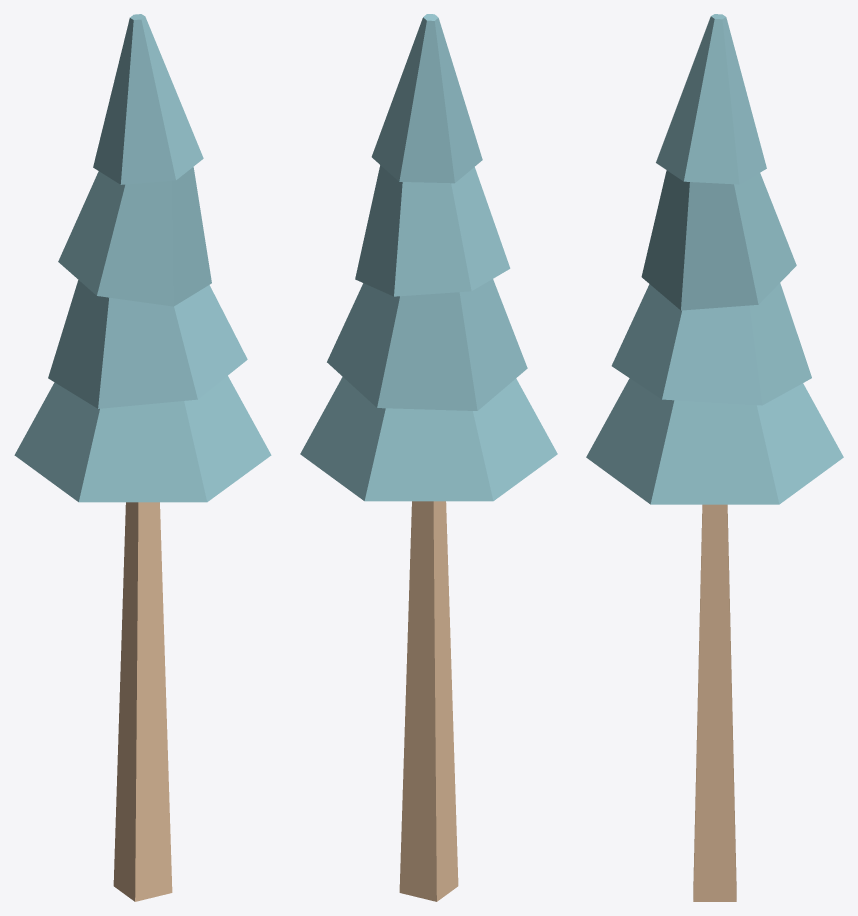
The model's file is tree_pine_tall.glb.
3 views of the same model, side by side, from view 1: azimuth 30°, elevation 25°; view 2: azimuth 150°, elevation 25°; view 3: azimuth 270°, elevation 25° (orthographic).
Visible parts, largest first — view 1: tree_pine_tall; view 2: tree_pine_tall; view 3: tree_pine_tall.
Boxes of the visible parts, x1,y1,x2,y2 form: tree_pine_tall: [14, 14, 271, 901]; tree_pine_tall: [300, 14, 557, 901]; tree_pine_tall: [586, 14, 843, 901].
Bounding box in the file's own units: 0.4804 × 2.08 × 0.5547.
